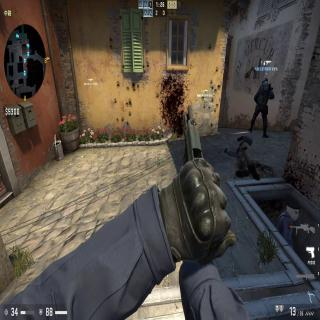CT-Body: (248, 77, 274, 140)
CT-Head: (261, 78, 269, 86)
T-Head: (285, 199, 299, 221)
